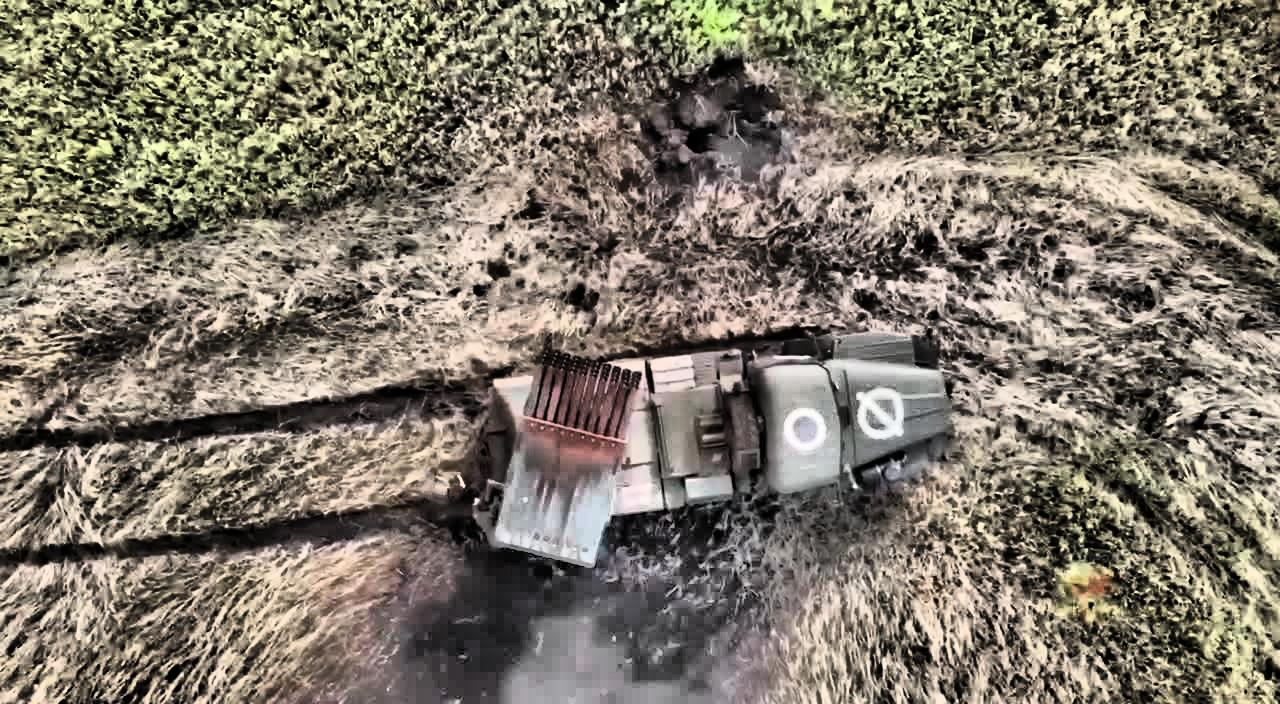military-vehicle: (469, 330, 953, 569)
